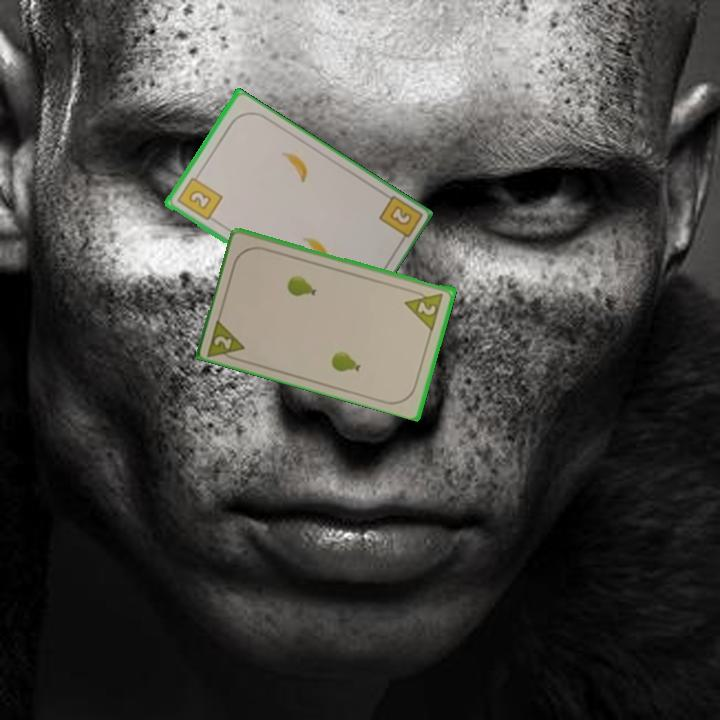2b: (173, 169, 225, 223), (375, 192, 423, 248)
2p: (204, 314, 248, 364), (402, 285, 446, 332)
